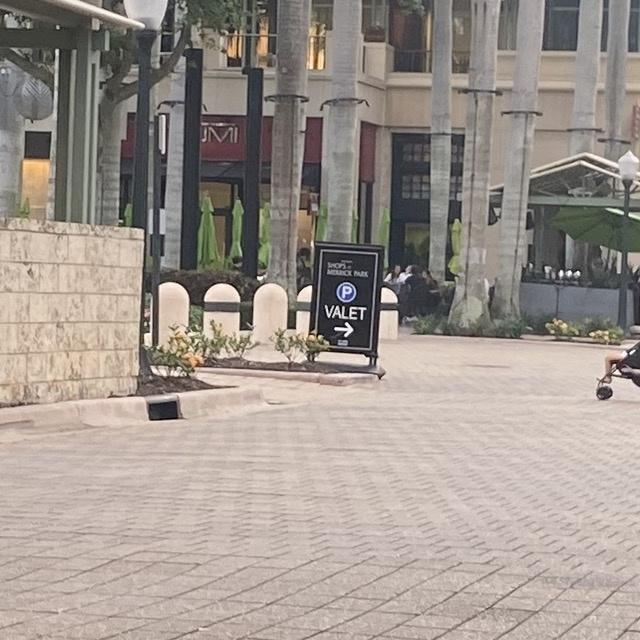curb: (0, 387, 267, 437), (201, 370, 384, 385)
